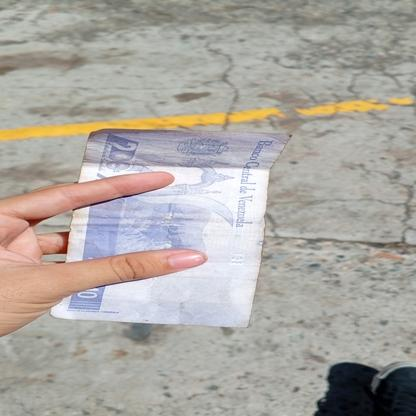ten-back-vef: (50, 131, 292, 328)
